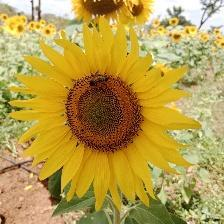sunflower: (8, 14, 203, 214)
